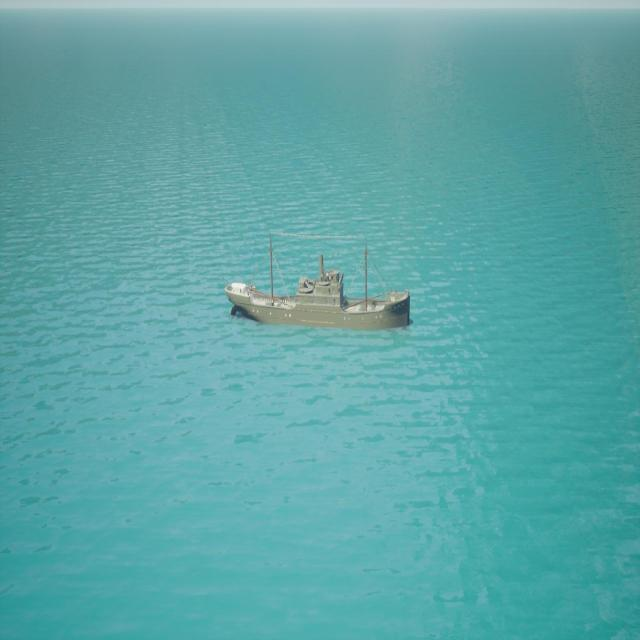fishing ship: (225, 235, 414, 333)
